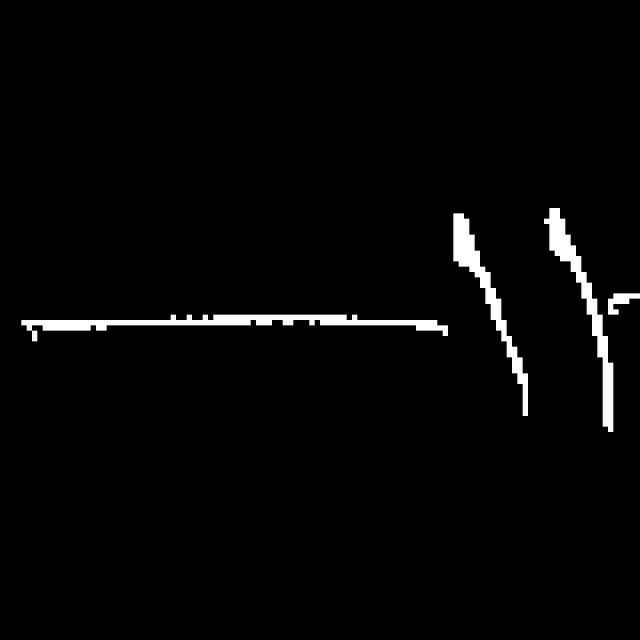capacitor: (438, 195, 625, 438)
